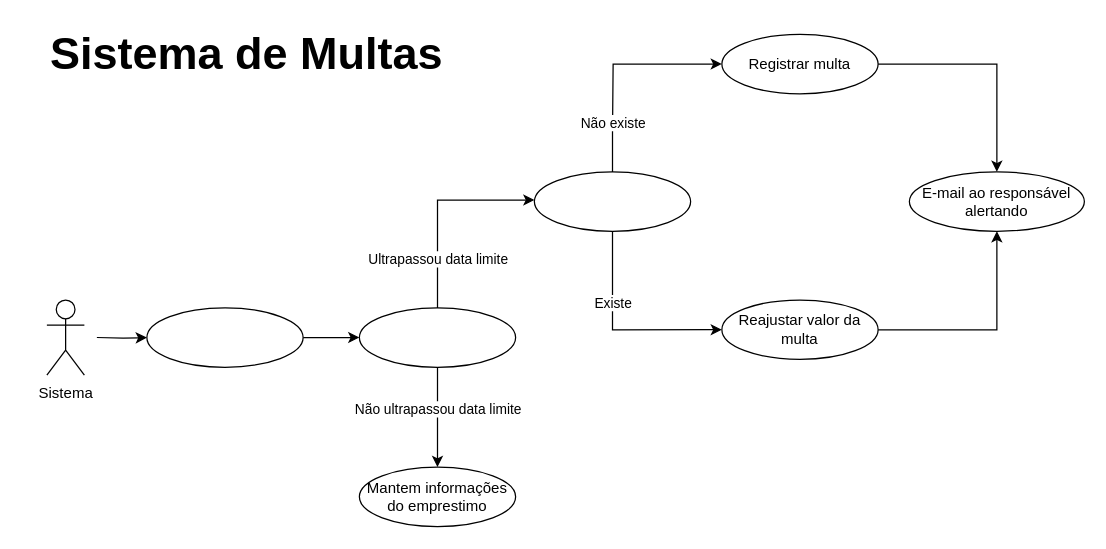
Image size: 1106x549. Some labels were removed from this diagram. Each missing label, with the centre of its shape:
"Buscar Livros emprestados" belongs at point 224,337.
"Verificar data do emprestimo" belongs at point 437,337.
"Verificar se existe multa pendente" belongs at point 612,201.
